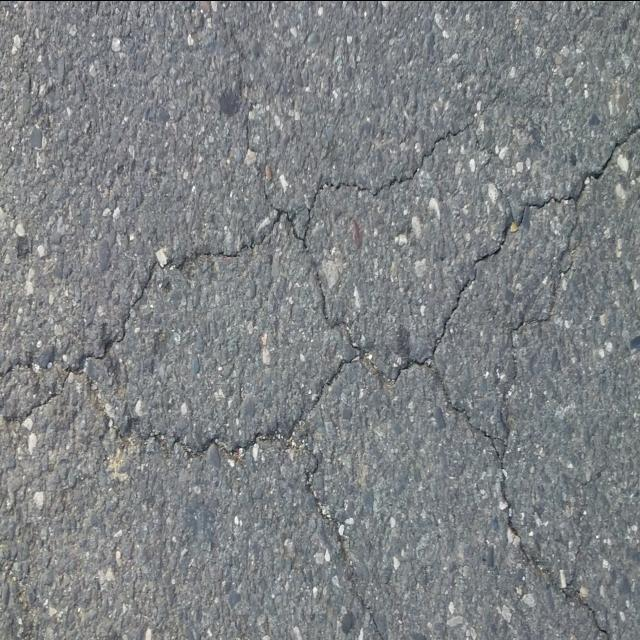Crack: (0, 341, 612, 640), (83, 112, 477, 361), (434, 120, 640, 356)
